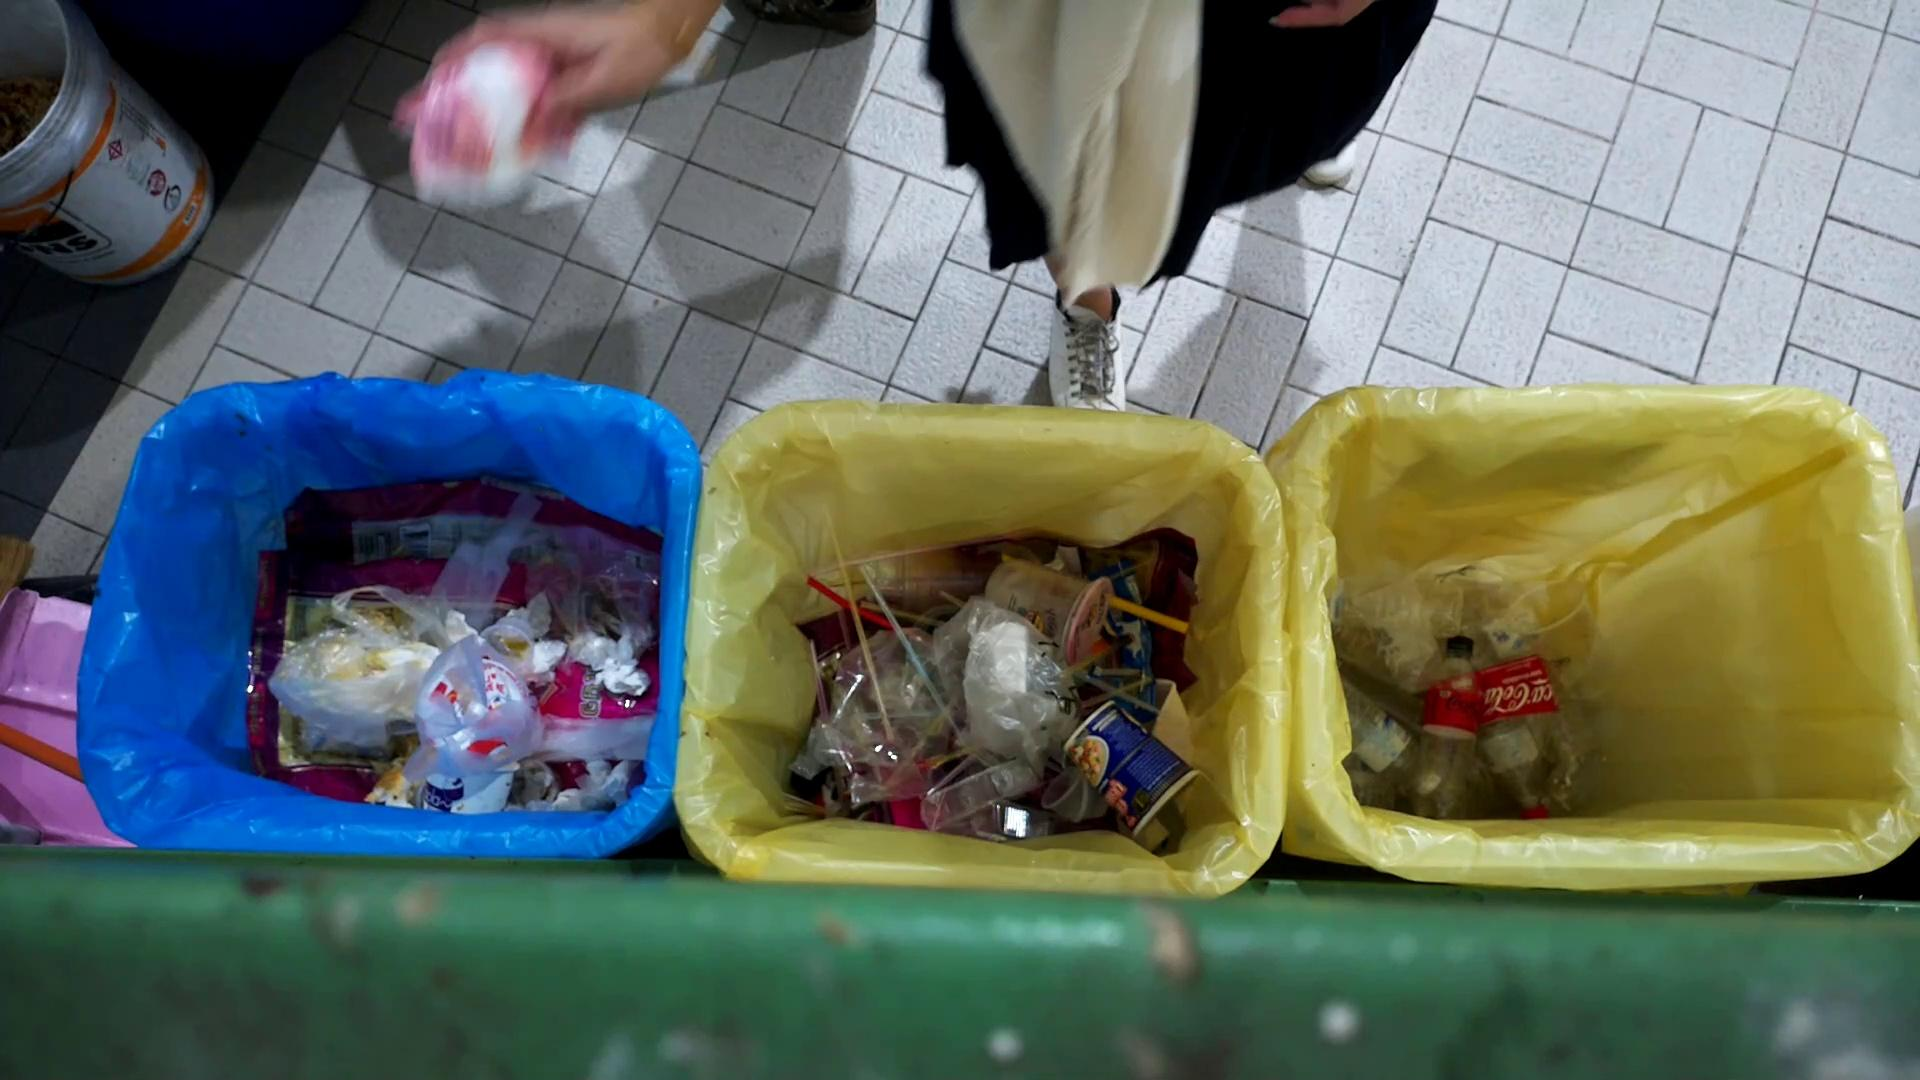filled plastic bag: (389, 621, 568, 799), (927, 593, 1084, 785), (268, 582, 423, 762)
food container: (1058, 696, 1203, 841)
plastic bottle: (1472, 636, 1576, 823), (1341, 669, 1447, 802), (1408, 629, 1482, 818), (1319, 572, 1468, 640)
plastic cup: (1503, 578, 1627, 709), (978, 555, 1118, 671)
snack packaging: (397, 36, 563, 211)
straw: (824, 509, 897, 745), (858, 566, 959, 732), (808, 574, 893, 630), (1072, 667, 1162, 713), (1104, 595, 1193, 636), (860, 601, 948, 628)
tissue paper: (572, 632, 647, 698), (575, 757, 632, 814)
